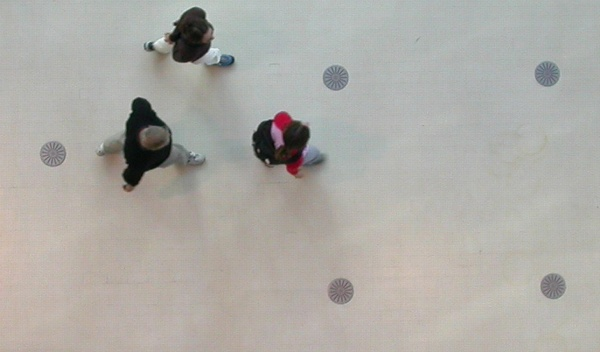person: (96, 97, 209, 193), (144, 6, 235, 69), (251, 109, 330, 180)
